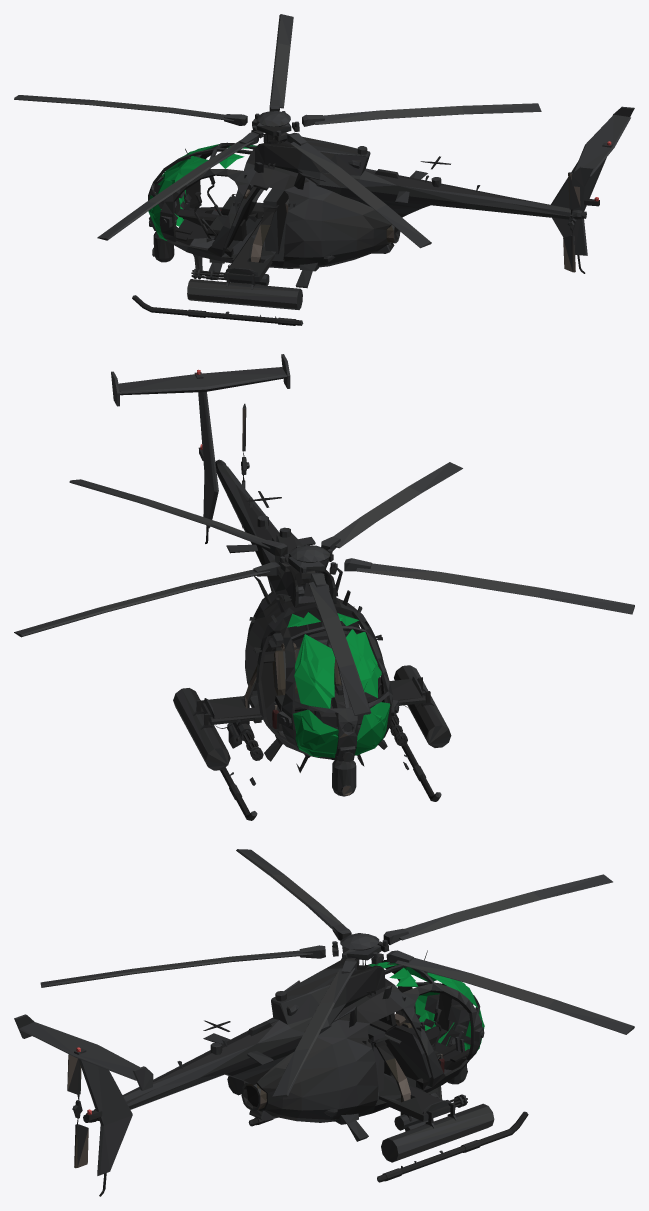
The model's file is pmc_scout_heli.obj.
3 views of the same model, one above another, from view 1: azimuth 30°, elevation 25°; view 2: azimuth 150°, elevation 25°; view 3: azimuth 270°, elevation 25° (orthographic). The views are drawn at different scales.
Parts seen in each view (by area): view 1: pmc_scout_heli; view 2: pmc_scout_heli; view 3: pmc_scout_heli.
Boxes of the visible parts, bbox=[...] form: pmc_scout_heli: bbox=[14, 14, 634, 325]; pmc_scout_heli: bbox=[14, 354, 634, 820]; pmc_scout_heli: bbox=[14, 849, 634, 1196].
Size of the model in its own units: 2.5 by 0.9336 by 2.37.
1 material, 1 textured.
